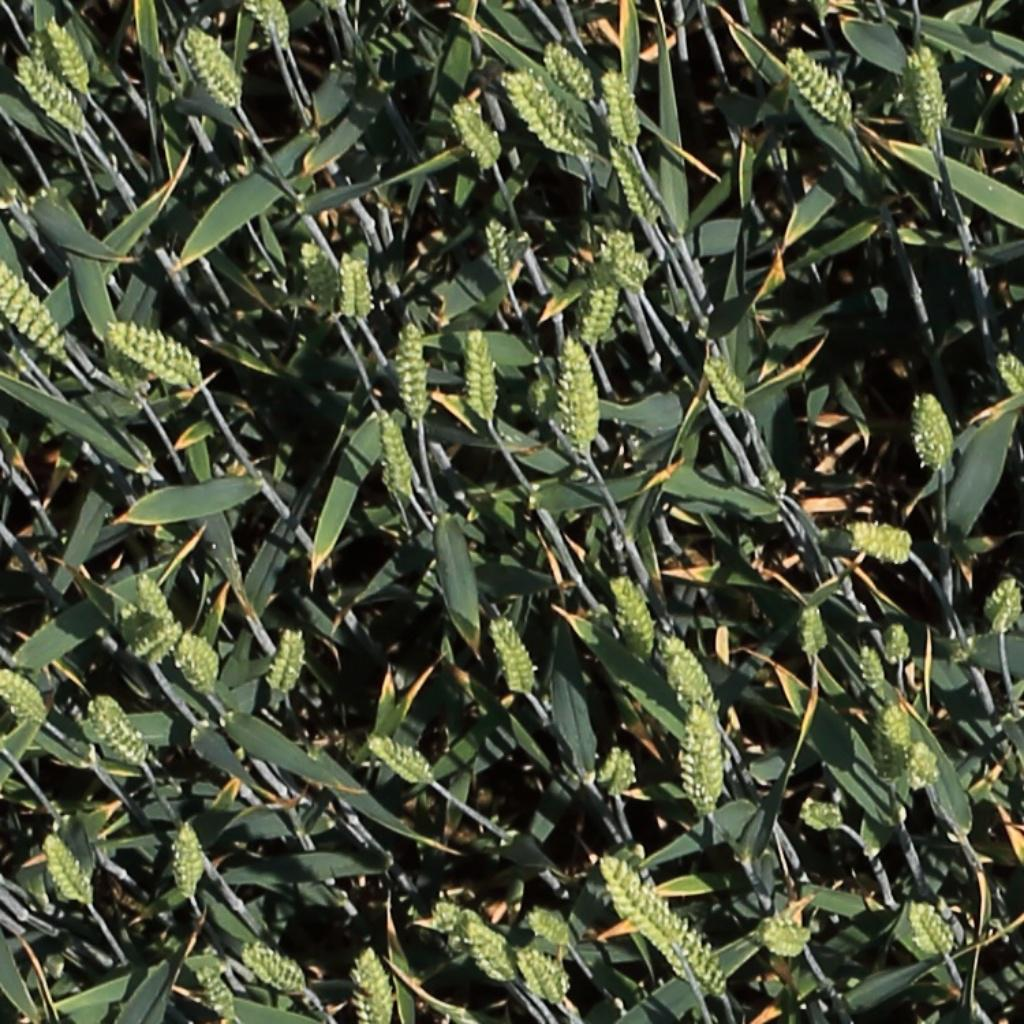0-0: (596, 846, 693, 977), (0, 247, 70, 361), (440, 890, 514, 988), (503, 70, 581, 157), (105, 320, 205, 384), (13, 54, 88, 135), (676, 703, 728, 815), (786, 45, 857, 125), (181, 24, 245, 109), (608, 139, 664, 229), (86, 694, 151, 771), (663, 636, 723, 719), (40, 13, 95, 98), (39, 830, 95, 913), (610, 570, 659, 662), (669, 928, 734, 997), (450, 92, 505, 172), (488, 613, 537, 701), (542, 35, 600, 107), (563, 331, 595, 447), (602, 64, 644, 151), (172, 628, 221, 701), (241, 944, 308, 995), (368, 737, 436, 787), (378, 409, 416, 498), (466, 320, 498, 425), (703, 349, 753, 416), (918, 387, 955, 475), (582, 266, 619, 352), (518, 946, 570, 1007), (907, 899, 958, 961), (192, 957, 240, 1022), (356, 944, 395, 1022), (606, 223, 649, 293), (0, 666, 49, 727), (917, 42, 947, 141), (400, 318, 428, 424), (243, 0, 298, 50), (759, 905, 807, 961), (270, 623, 304, 701), (296, 237, 336, 303), (132, 570, 178, 627), (985, 573, 1022, 640), (850, 525, 916, 561), (484, 211, 516, 285), (127, 620, 176, 668), (176, 819, 200, 907), (857, 637, 891, 699), (341, 245, 367, 326), (886, 700, 917, 767), (907, 740, 942, 797), (992, 345, 1024, 402), (604, 745, 638, 798), (352, 959, 379, 1024), (802, 598, 828, 664), (529, 912, 574, 950), (798, 798, 846, 833), (887, 617, 914, 673)
